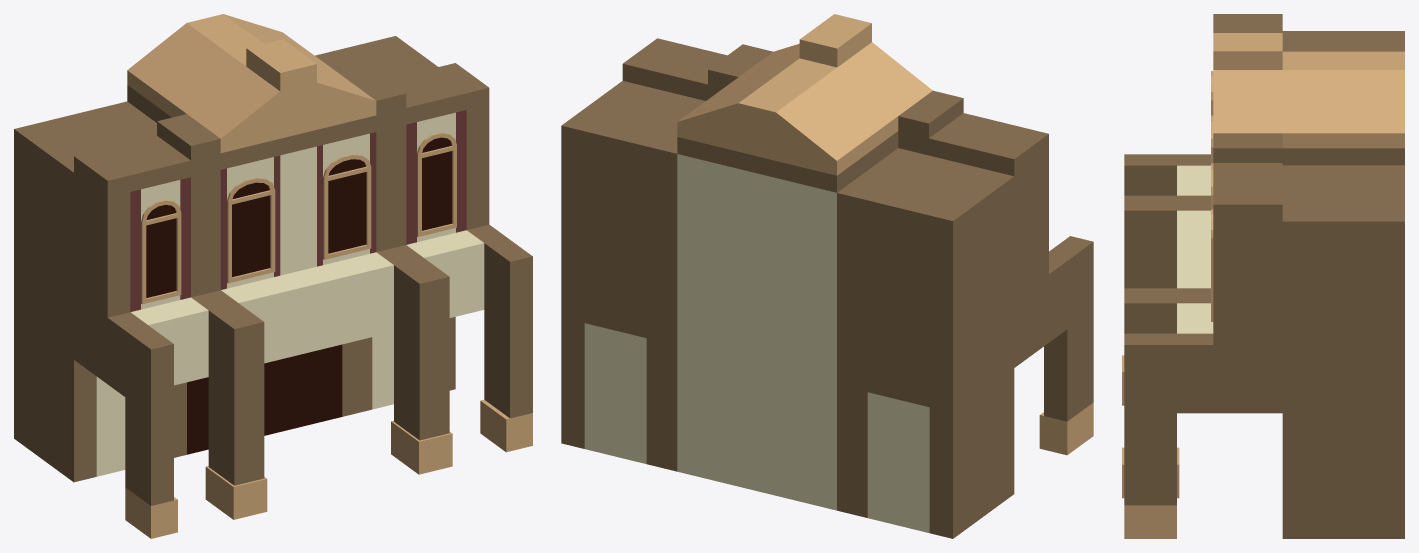
The model's file is HOUSE_04.fbx.
The picture shows the model from 3 angles, left to right: view 1: azimuth 30°, elevation 25°; view 2: azimuth 150°, elevation 25°; view 3: azimuth 270°, elevation 25°; orthographic projection. The views are drawn at different scales.
Parts seen in each view (by area): view 1: Cube.009; view 2: Cube.009; view 3: Cube.009.
Boxes of the visible parts, <box> form: Cube.009: <box>14,14,532,538</box>; Cube.009: <box>561,14,1093,538</box>; Cube.009: <box>1122,14,1404,538</box>.
Size of the model in its own units: 585 by 574 by 366.
